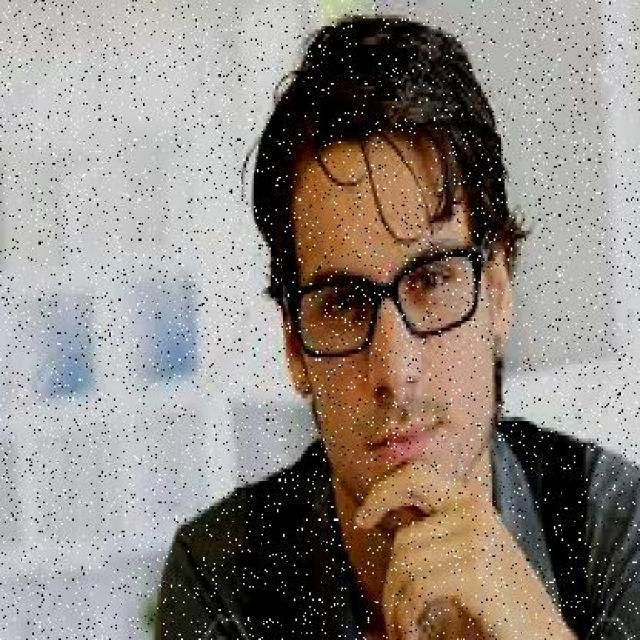glasses: (292, 246, 488, 357)
